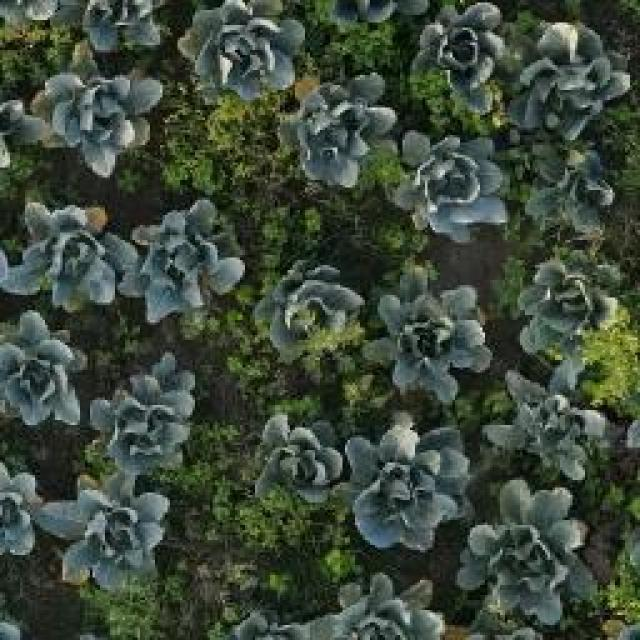cabbage: (463, 487, 588, 626), (349, 415, 466, 553), (32, 68, 167, 178), (8, 201, 130, 311), (93, 352, 207, 469), (493, 362, 604, 480), (122, 195, 232, 313), (52, 470, 162, 588), (518, 15, 628, 133), (178, 0, 302, 96), (373, 277, 486, 382), (396, 128, 505, 234), (519, 250, 621, 359), (285, 79, 394, 179), (242, 408, 344, 514), (0, 310, 86, 432), (418, 0, 514, 105), (260, 258, 362, 351), (301, 575, 444, 640), (530, 143, 617, 234), (0, 450, 51, 561), (73, 0, 166, 54)
